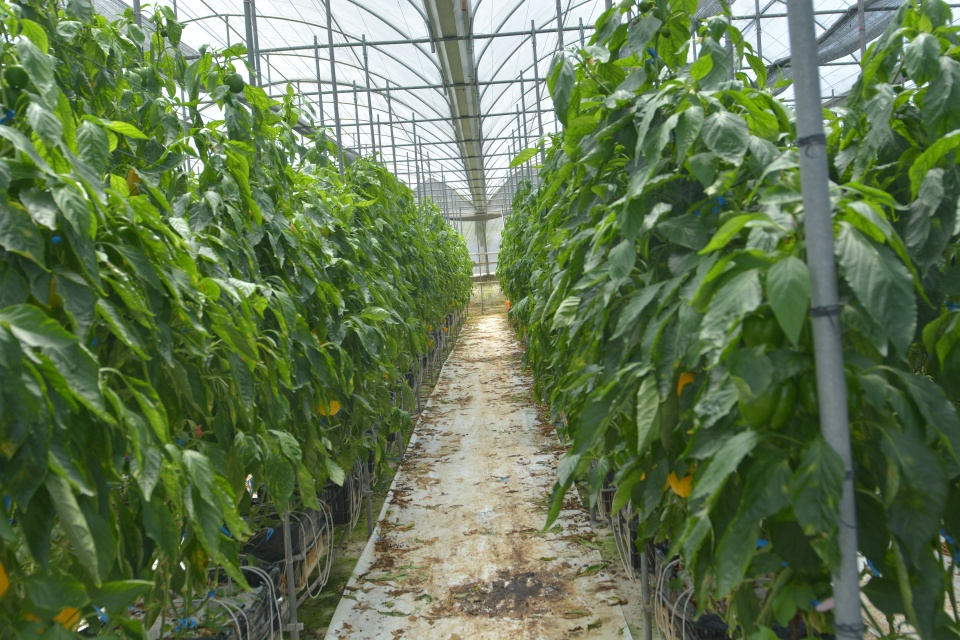flower: (695, 35, 704, 45), (764, 86, 772, 95), (289, 96, 295, 102)
fruit: (736, 371, 798, 431), (798, 365, 859, 416), (741, 312, 785, 352), (31, 276, 61, 314), (668, 466, 693, 498), (52, 606, 80, 633), (4, 63, 29, 88), (125, 167, 143, 199), (315, 397, 341, 416), (130, 66, 150, 88), (224, 72, 244, 93), (262, 183, 278, 208), (222, 91, 238, 109), (427, 339, 434, 346), (442, 326, 448, 332), (440, 317, 446, 323), (427, 324, 432, 331)
immature: (596, 80, 612, 94), (660, 26, 671, 37), (638, 0, 648, 12), (160, 27, 168, 37)
